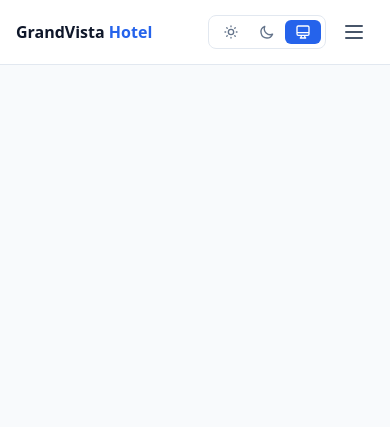
Test: keyboard navigation › opens the mobile menu with the toggle button
Click the button named "Toggle navigation". click: (354, 32)
box: [334, 12, 374, 52]
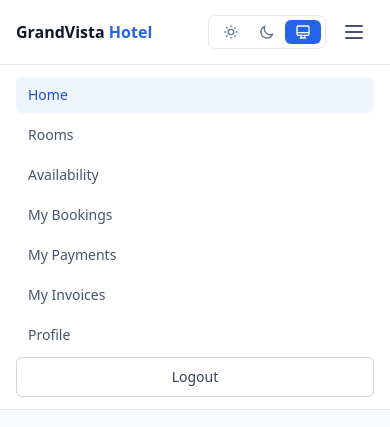
Now the navigation bar with id "mobile-menu" is shown
